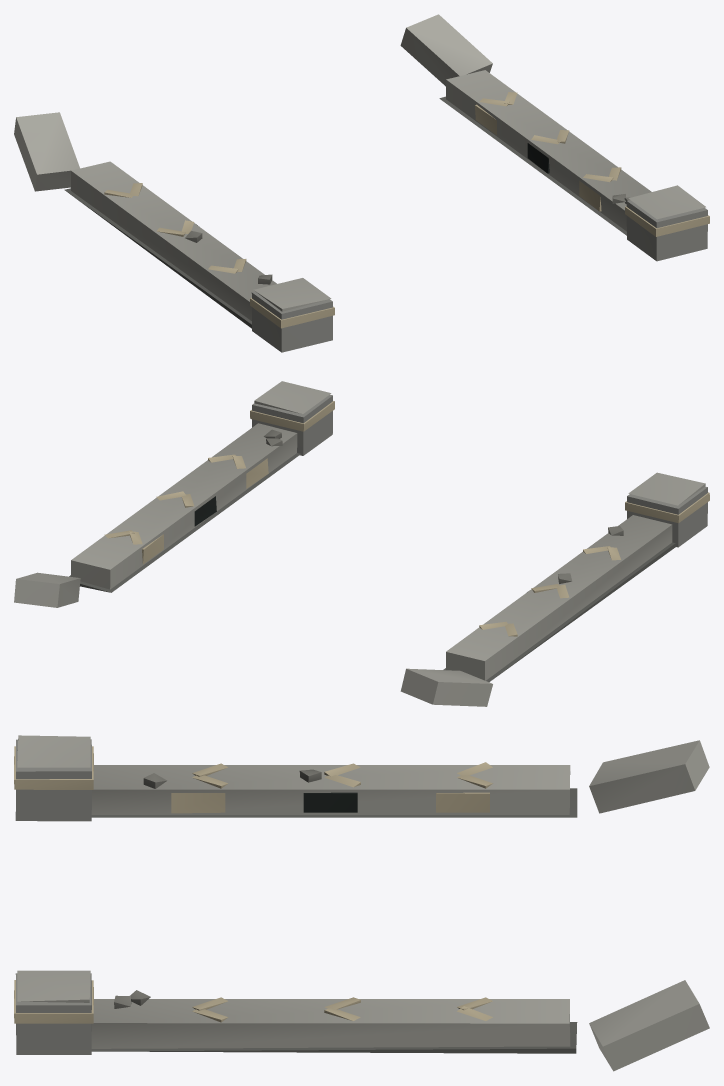
File: takeoff_deck_b_lod2.glb
The picture shows the model from 3 angles, top to bottom: view 1: azimuth 30°, elevation 25°; view 2: azimuth 150°, elevation 25°; view 3: azimuth 270°, elevation 25°; orthographic projection. The views are drawn at different scales.
Parts seen in each view (by area): view 1: Surface.001; view 2: Surface.001; view 3: Surface.001.
Part boxes in pixels (left/top/right/bottom): Surface.001: left=14, top=14, right=709, bottom=352; Surface.001: left=14, top=381, right=709, bottom=706; Surface.001: left=14, top=735, right=709, bottom=1071.
Size of the model in its own units: 11.19 by 1.17 by 11.57.
